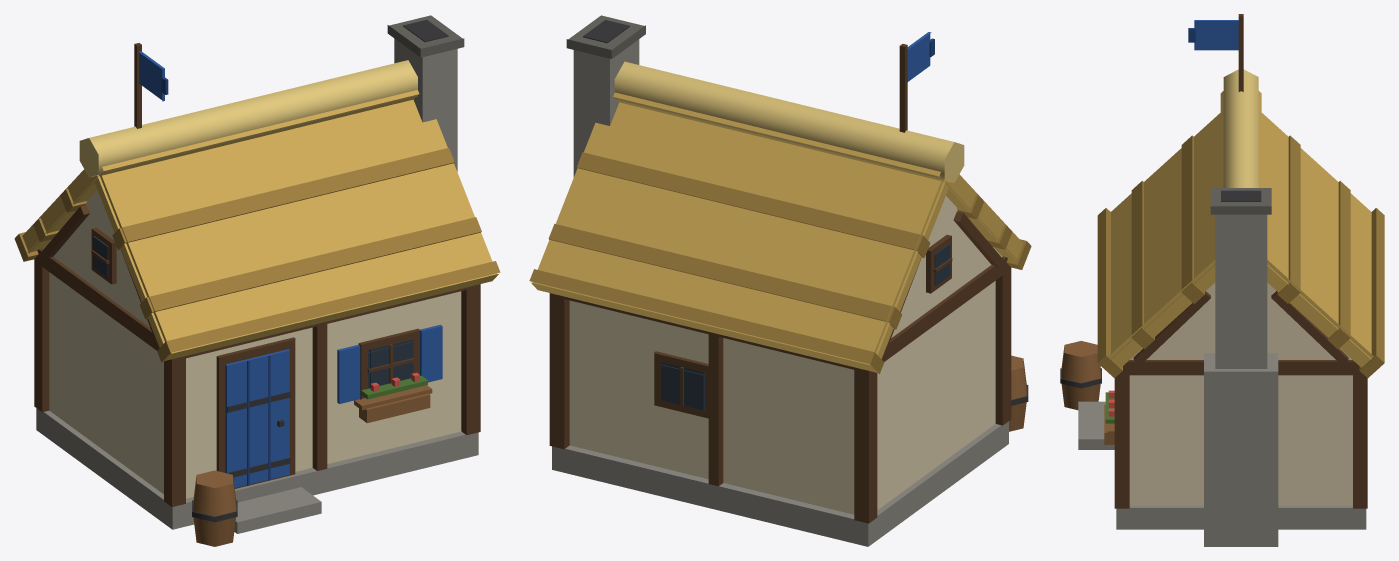
The model's file is peasant-house.glb.
3 renders of one model, left to right at view 1: azimuth 30°, elevation 25°; view 2: azimuth 150°, elevation 25°; view 3: azimuth 270°, elevation 25°, orthographic. The views are drawn at different scales.
Parts seen in each view (by area): view 1: peasant-house; view 2: peasant-house; view 3: peasant-house.
Part boxes in pixels (bbox=[...]): peasant-house: bbox=[14, 15, 500, 546]; peasant-house: bbox=[529, 15, 1031, 546]; peasant-house: bbox=[1060, 14, 1384, 546].
Size of the model in its own units: 5.13 by 5.82 by 4.36.
Materials: 1 (1 with a texture image).
